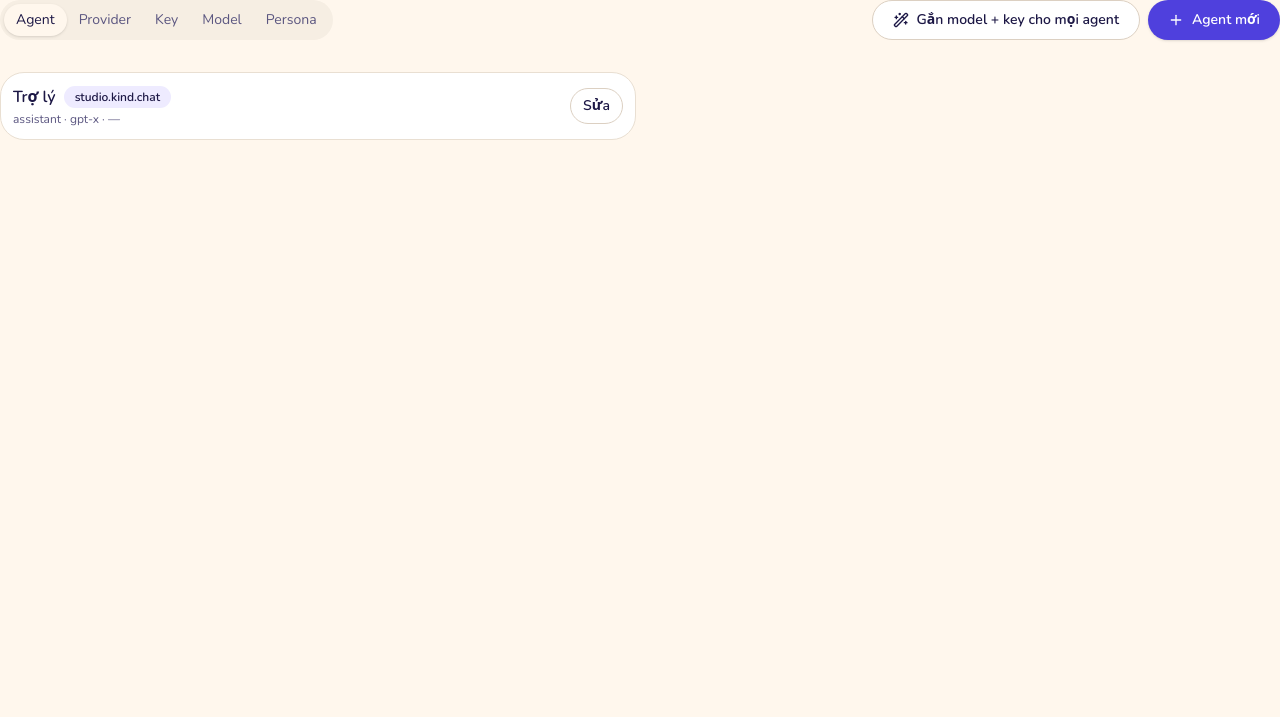
Test: Studio — nút cấp tab nằm ở hàng tab › bấm agent-add ở hàng tab → mở trình sửa agent mới
The image size is (1280, 717).
Click the button with test id "agent-add".
click(1214, 20)  # box [1148,0,1279,40]
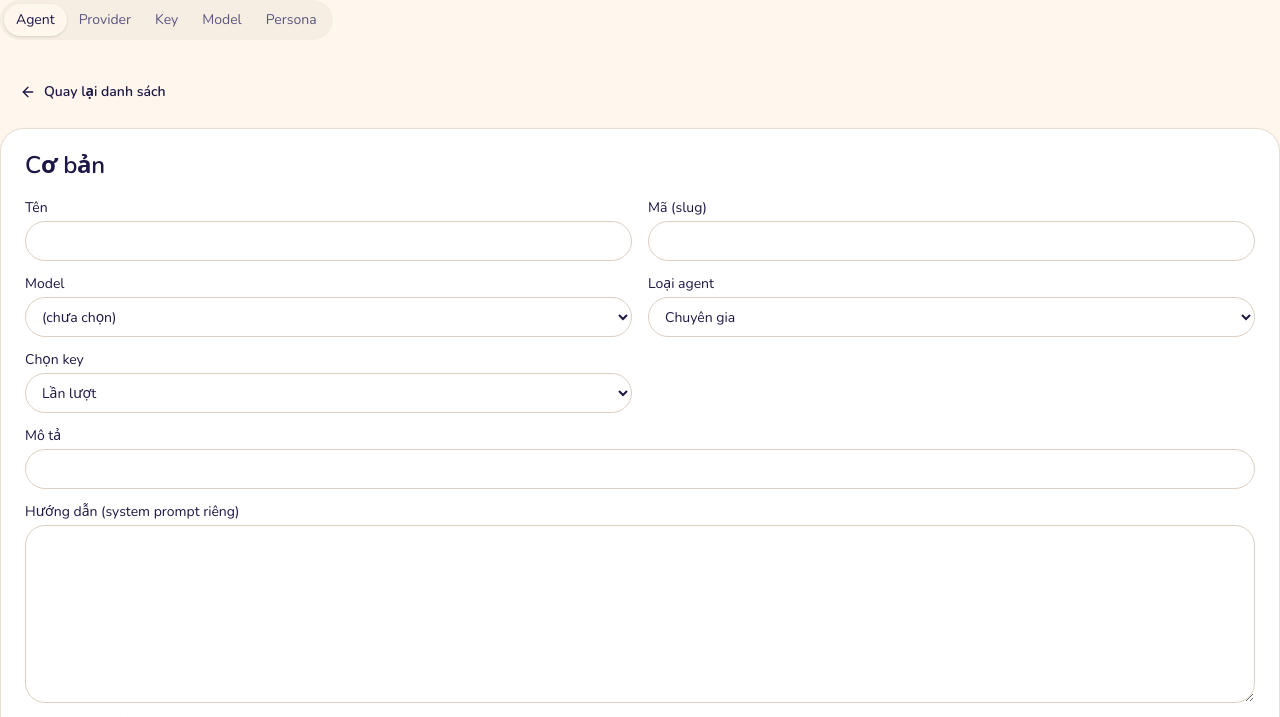
Check: the dropdown with test id "agent-kind" is shown, box [648,297,1255,337]
Check: the button with test id "agent-back" is shown, box [0,72,186,112]
